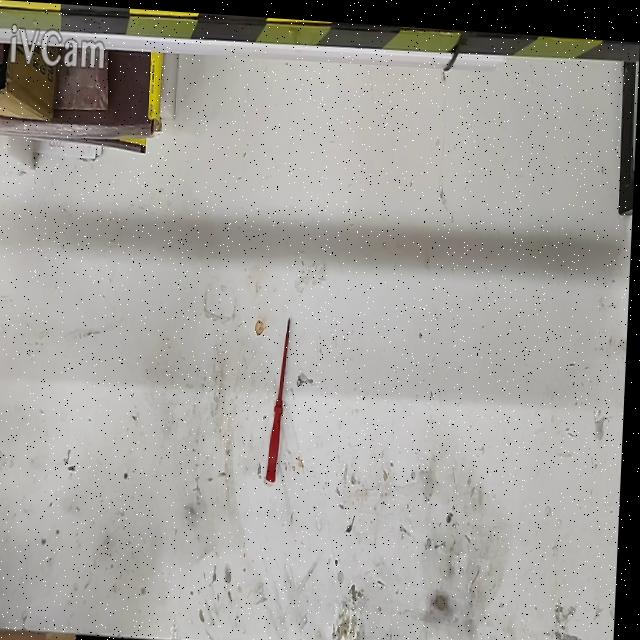Screwdriver: (270, 316, 293, 479)
